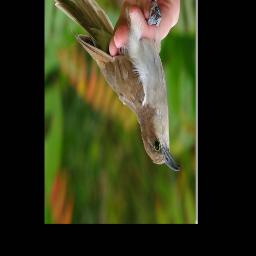Cuckoo: (48, 0, 181, 173)
